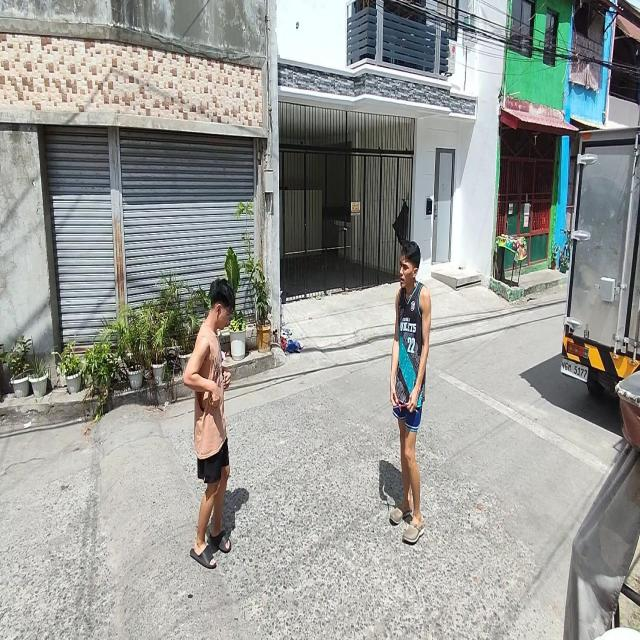scissor: (393, 400, 408, 412)
